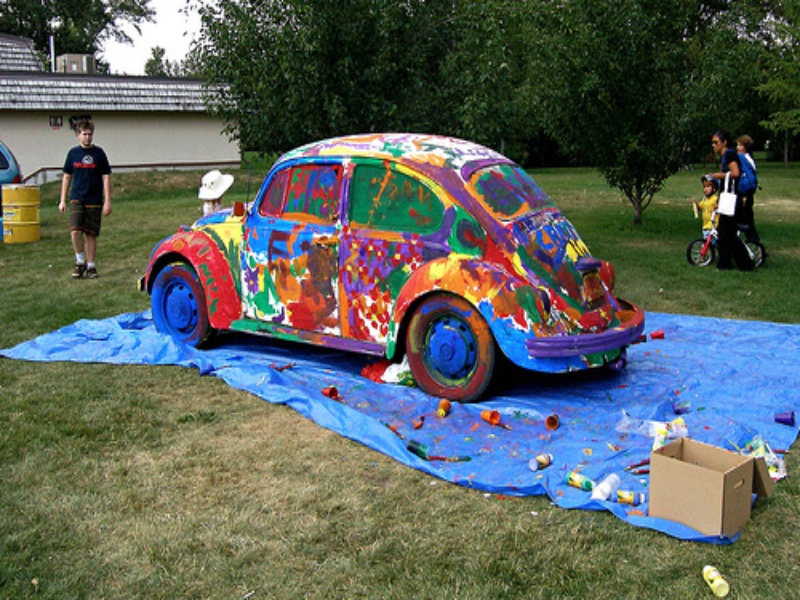car: (138, 132, 644, 401), (1, 140, 23, 209)
person: (59, 120, 113, 278), (711, 130, 756, 271), (198, 169, 234, 216), (693, 175, 720, 237)
